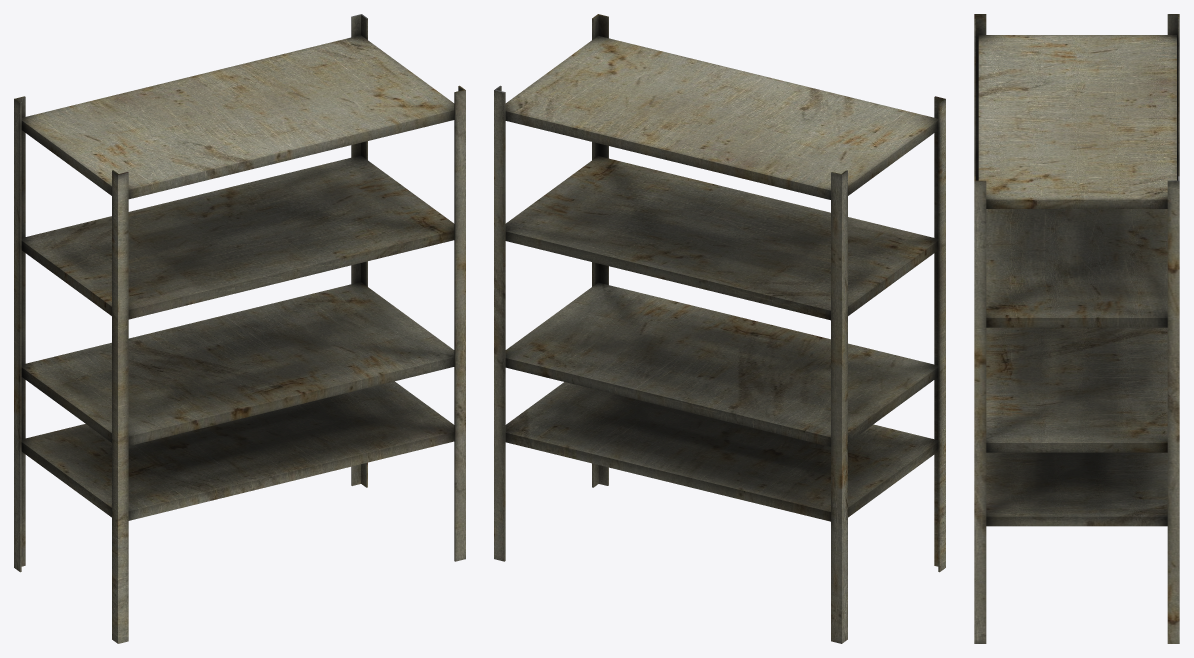
Rendered from Shelf.fbx.
3 views of the same model, side by side, from view 1: azimuth 30°, elevation 25°; view 2: azimuth 150°, elevation 25°; view 3: azimuth 270°, elevation 25° (orthographic).
Visible parts, largest first — view 1: Cube_019; view 2: Cube_019; view 3: Cube_019.
Part boxes in pixels (x1,y1,x2,y2): Cube_019: [14, 14, 465, 643]; Cube_019: [494, 14, 945, 643]; Cube_019: [974, 14, 1179, 643].
Bounding box in the file's own units: 1.02 × 1.32 × 0.5308.
